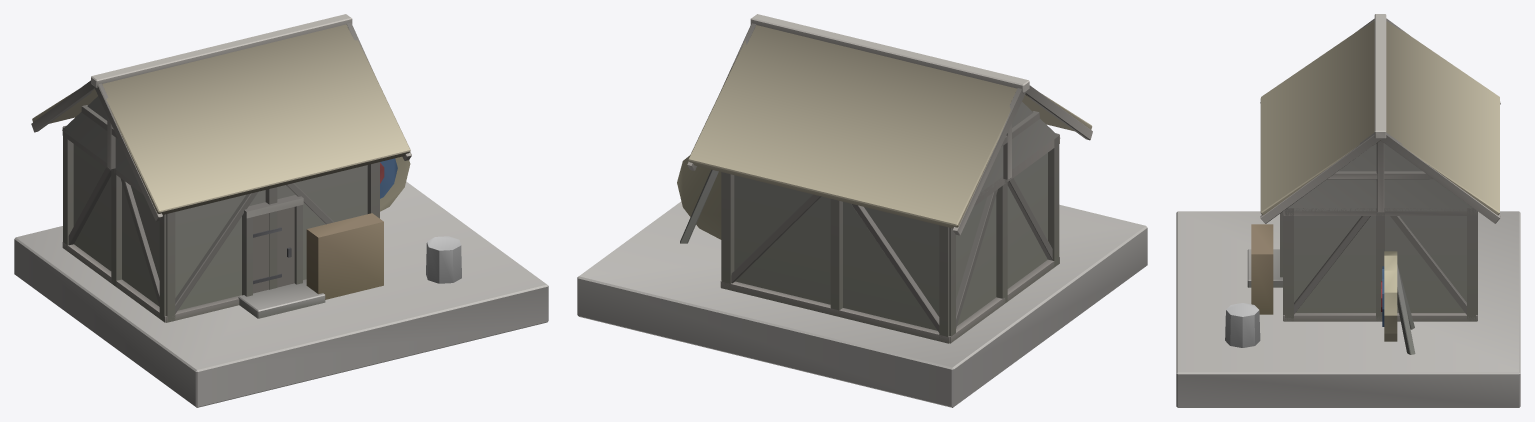
File: fletcher_l1_lod1.glb
The picture shows the model from 3 angles, left to right: view 1: azimuth 30°, elevation 25°; view 2: azimuth 150°, elevation 25°; view 3: azimuth 270°, elevation 25°; orthographic projection. The views are drawn at different scales.
Parts seen in each view (by area): view 1: fletcher_l1_lod1; view 2: fletcher_l1_lod1; view 3: fletcher_l1_lod1.
Part boxes in pixels (x1,y1,x2,y2): fletcher_l1_lod1: (14,14,548,407); fletcher_l1_lod1: (577,14,1147,407); fletcher_l1_lod1: (1176,14,1520,407).
Bounding box in the file's own units: 7.8 × 5.28 × 7.
